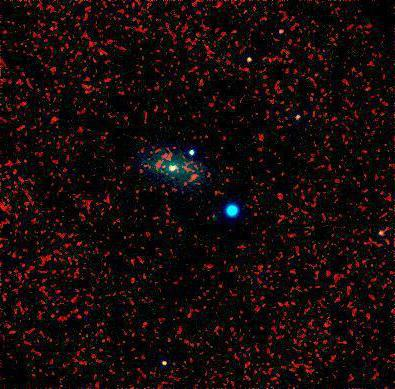star: (176, 161, 206, 191)
